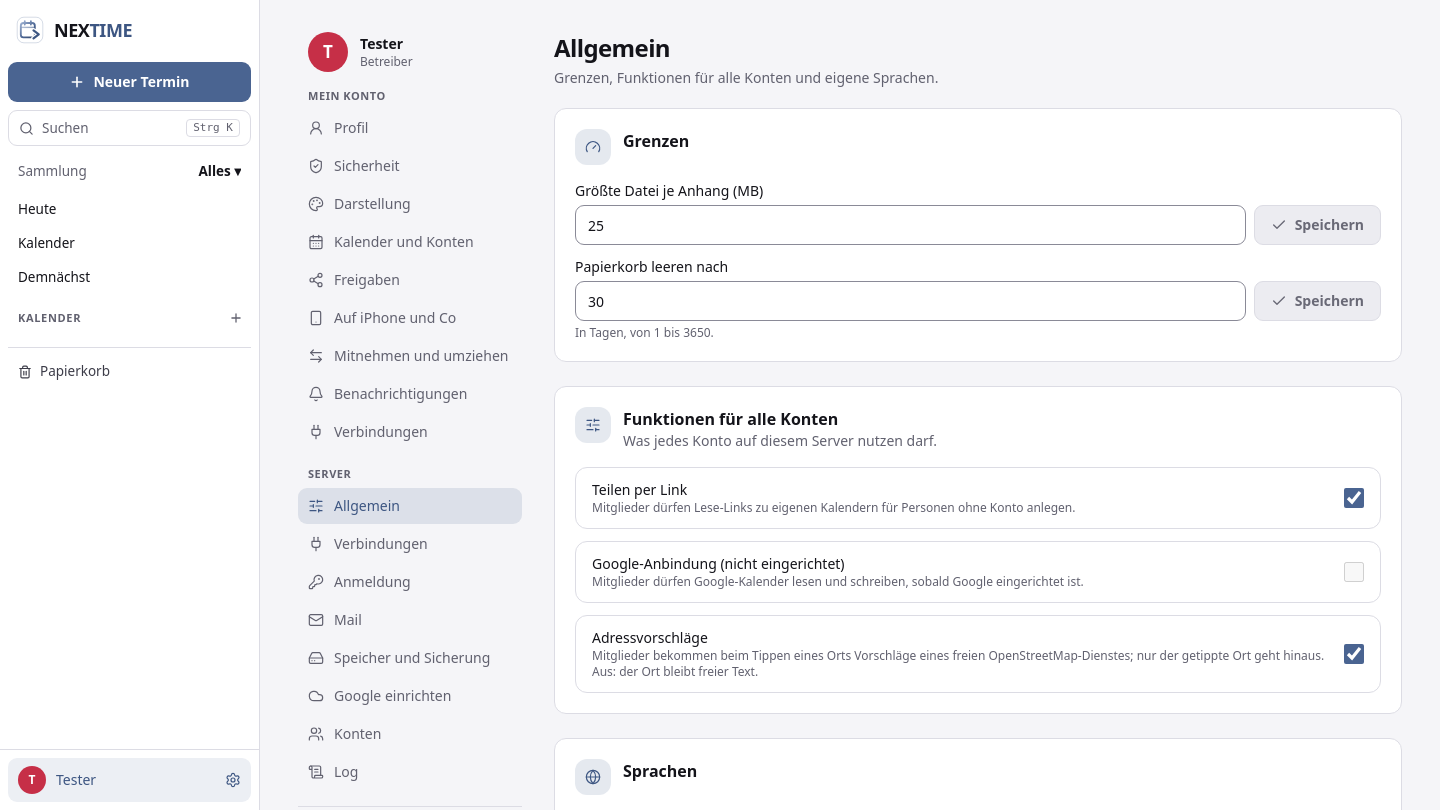
TIME-1 the group "Server" of the settings › TIME-1 AC-5 has the switches; Google says whether it is set up and cannot be switched before; API and MCP are "Schnittstellen"
Later steps or results of the test are not shown.
Expected: the heading "Funktionen für alle Konten" is shown, [623,408,838,430]
Expected: the checkbox labelled "Google-Anbindung (nicht eingerichtet)" is disabled, [1344,562,1364,582]
Click the checkbox labelled "Adressvorschläge" at (1354, 654), box [1344,644,1364,664]
(page scrolled)
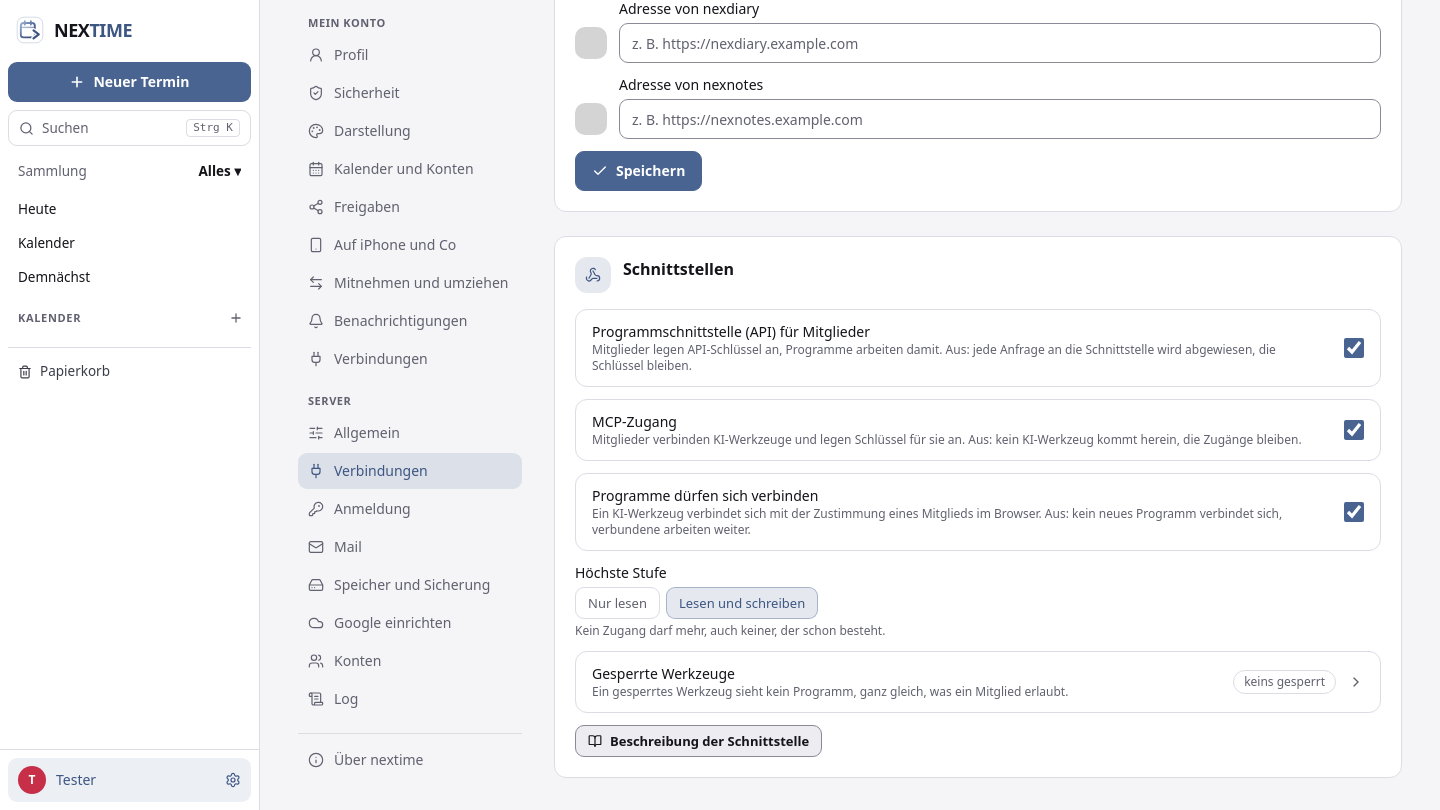
Expected: the element with test id "mcp-operator" is shown, [575,473,1381,713]
